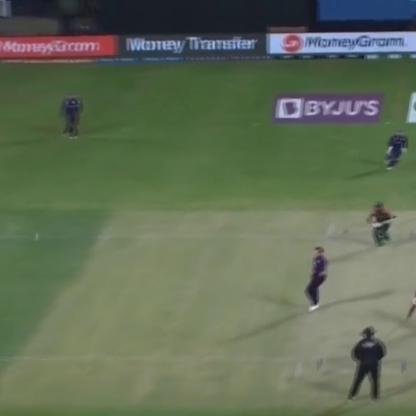ball: (26, 229, 46, 246)
pitch: (300, 204, 416, 405)
